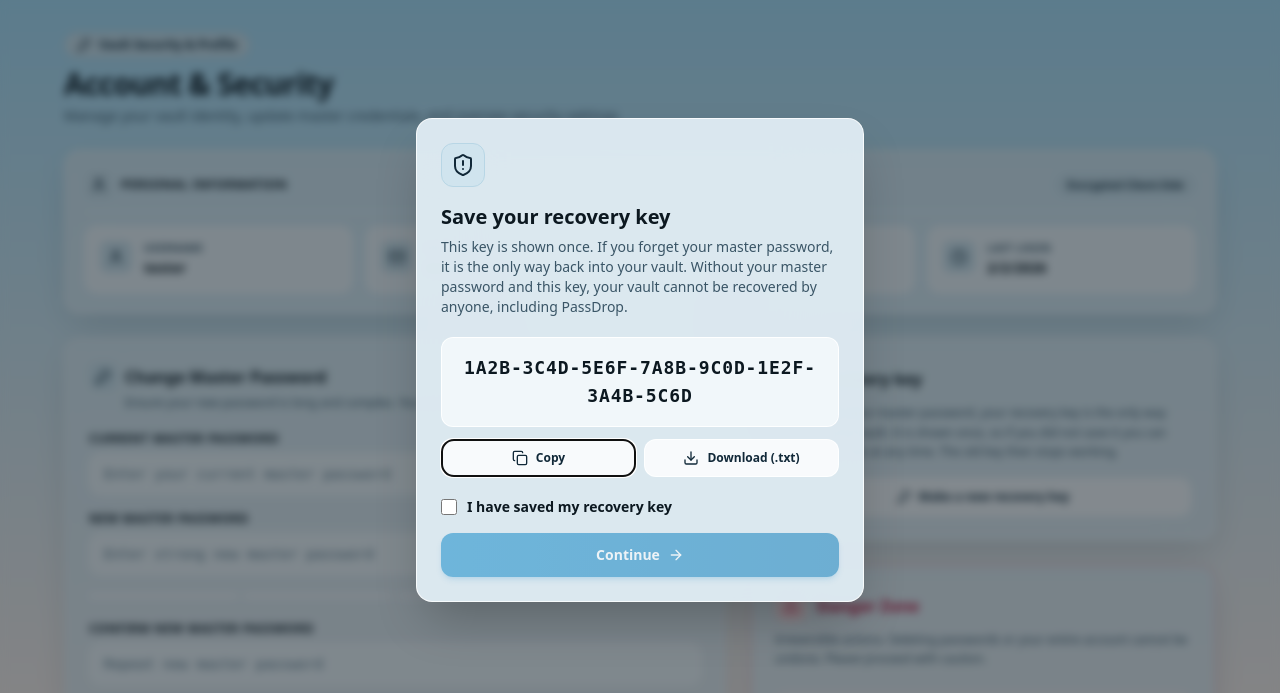
Test: the recovery key popup on the Account page › shows the key made at sign-up the first time, and not again once it has been saved
This screenshot has width=1280, height=693.
expect the text with test id "recovery-key" reads "1A2B-3C4D-5E6F-7A8B-9C0D-1E2F-3A4B-5C6D": met, box [464,357,816,406]
expect the button "Continue" is disabled: met, box [441,533,839,577]
Click the checkbox labelled "I have saved my recovery key" at point(449, 507), box [441,499,457,515]
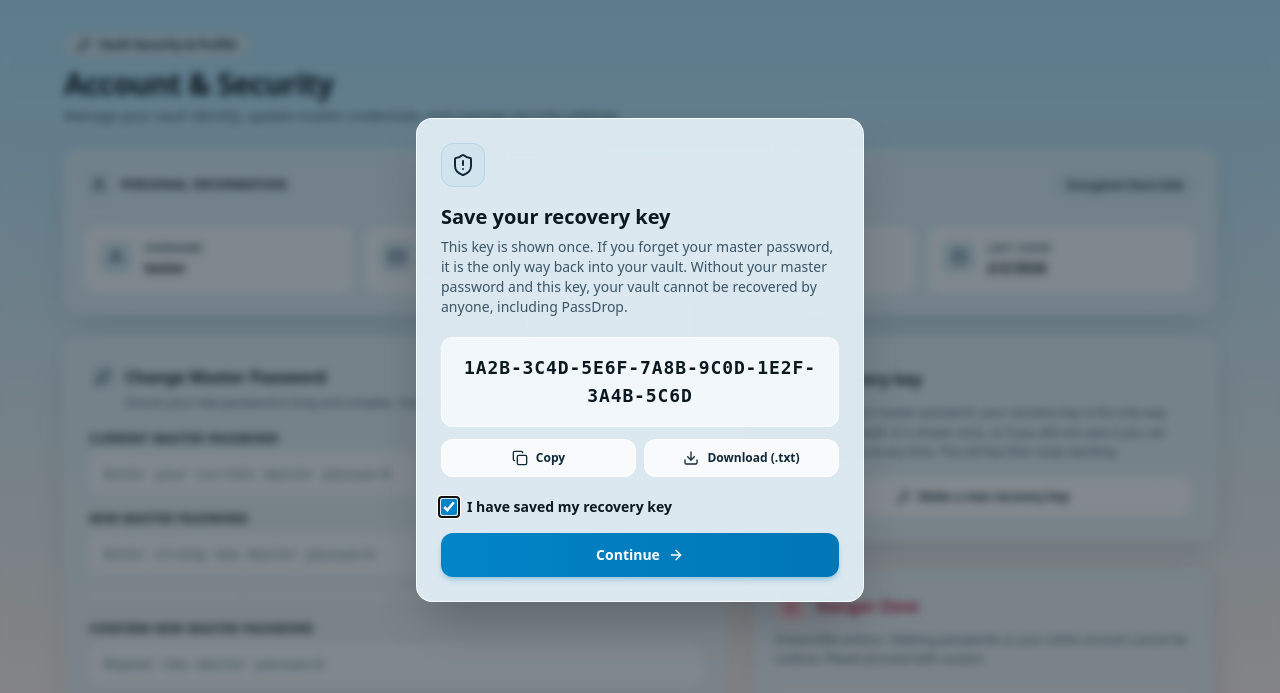
Click the button "Continue" at point(640, 555), box [441,533,839,577]
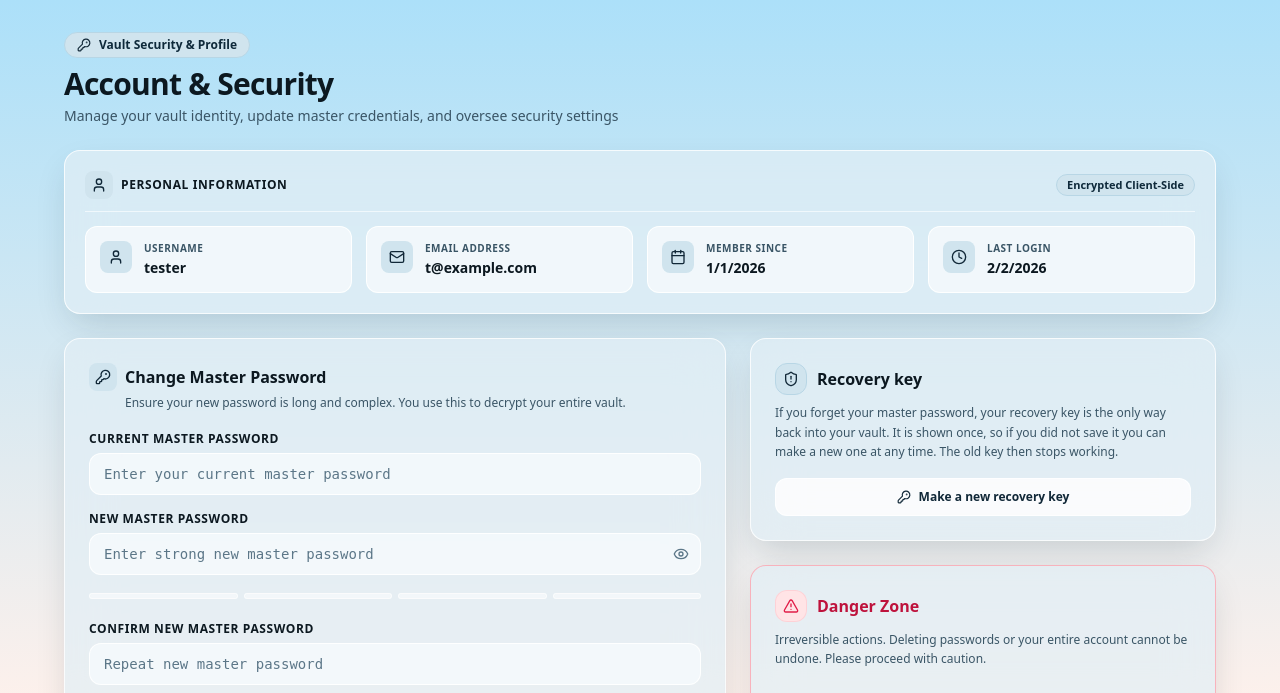
expect the text with test id "recovery-key" is gone: met
